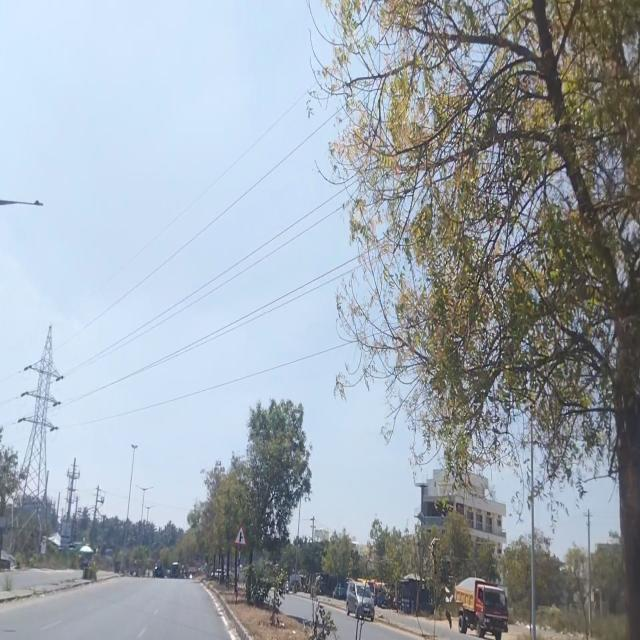bien_cam: (233, 524, 247, 548)
